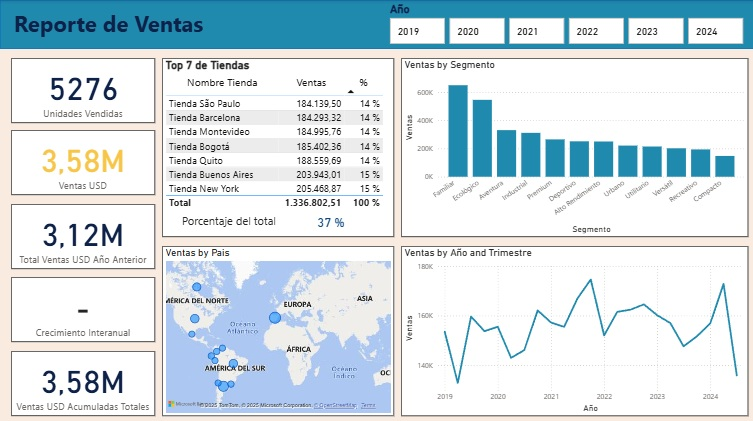

The page's visual inventory and layout, read from the dashboard file:
{"tool":"powerbi","page":{"name":"Page 1","canvas":[1280,720],"ordinal":4},"visuals":[{"type":"shape","box":[0,0,1280,83],"z":0},{"type":"advancedSlicerVisual","fields":{"Values":["Fechas.Date.Variación.Jerarquía de fechas.Año"]},"box":[655.2,3.4,611.2,76.2],"z":1000},{"type":"textbox","box":[18.6,8.5,463.9,66],"z":2000},{"type":"card","fields":{"Values":["Ventas.Ventas"]},"box":[18.6,220.1,243.8,110.1],"z":3000},{"type":"card","fields":{"Values":["Ventas.Unidades Vendidas"]},"box":[18.6,98.2,243.8,110.1],"z":4000},{"type":"card","fields":{"Values":["Ventas.Total Ventas Año Anterior"]},"box":[18.6,345.4,243.8,110.1],"z":5000},{"type":"card","fields":{"Values":["Ventas.Crecimiento Interanual"]},"box":[18.6,469,243.8,110.1],"z":6000},{"type":"card","fields":{"Values":["Ventas.Ventas Acumuladas"]},"box":[18.6,594.3,243.8,110.1],"z":7000},{"type":"tableEx","title":"Top 7 de Tiendas","fields":{"Values":["Tiendas.Nombre Tienda","Ventas.Ventas","Ventas.% Ventas por Tienda"]},"box":[274.3,98.2,392.8,303.1],"z":8000},{"type":"columnChart","fields":{"Category":["Producto.Segmento"],"Y":["Ventas.Ventas"]},"box":[678.9,98.2,587.5,303.1],"z":9000},{"type":"lineChart","fields":{"Y":["Ventas.Ventas"],"Category":["Fechas.Date.Variación.Jerarquía de fechas.Año","Fechas.Date.Variación.Jerarquía de fechas.Trimestre"]},"box":[678.9,416.5,587.5,287.8],"z":10000},{"type":"map","fields":{"Category":["Tiendas.Pais","Tiendas.Ciudad"],"Size":["Ventas.Ventas"]},"box":[274.3,416.5,392.8,287.8],"z":11000},{"type":"card","fields":{"Values":["Ventas.% Top 7 del Total"]},"box":[519.8,355.6,81.3,40.6],"z":12000},{"type":"textbox","box":[303.1,355.6,179.5,40.6],"z":13000}]}

Visuals, with their boxes in screenshot pixels (x1, y1, x2, y2), scaled from the page's 1280x720 canvas onto the 753x421 screenshot:
shape: (left=0, top=0, right=752, bottom=49)
advancedSlicerVisual - Fechas.Date.Variación.Jerarquía de fechas.Año: (left=385, top=2, right=745, bottom=47)
textbox: (left=11, top=5, right=284, bottom=44)
card - Ventas.Ventas: (left=11, top=129, right=154, bottom=193)
card - Ventas.Unidades Vendidas: (left=11, top=57, right=154, bottom=122)
card - Ventas.Total Ventas Año Anterior: (left=11, top=202, right=154, bottom=266)
card - Ventas.Crecimiento Interanual: (left=11, top=274, right=154, bottom=339)
card - Ventas.Ventas Acumuladas: (left=11, top=348, right=154, bottom=412)
"Top 7 de Tiendas" tableEx: (left=161, top=57, right=392, bottom=235)
columnChart - Producto.Segmento x Ventas.Ventas: (left=399, top=57, right=745, bottom=235)
lineChart - Ventas.Ventas x Fechas.Date.Variación.Jerarquía de fechas.Año: (left=399, top=244, right=745, bottom=412)
map - Tiendas.Pais x Tiendas.Ciudad: (left=161, top=244, right=392, bottom=412)
card - Ventas.% Top 7 del Total: (left=306, top=208, right=354, bottom=232)
textbox: (left=178, top=208, right=284, bottom=232)
